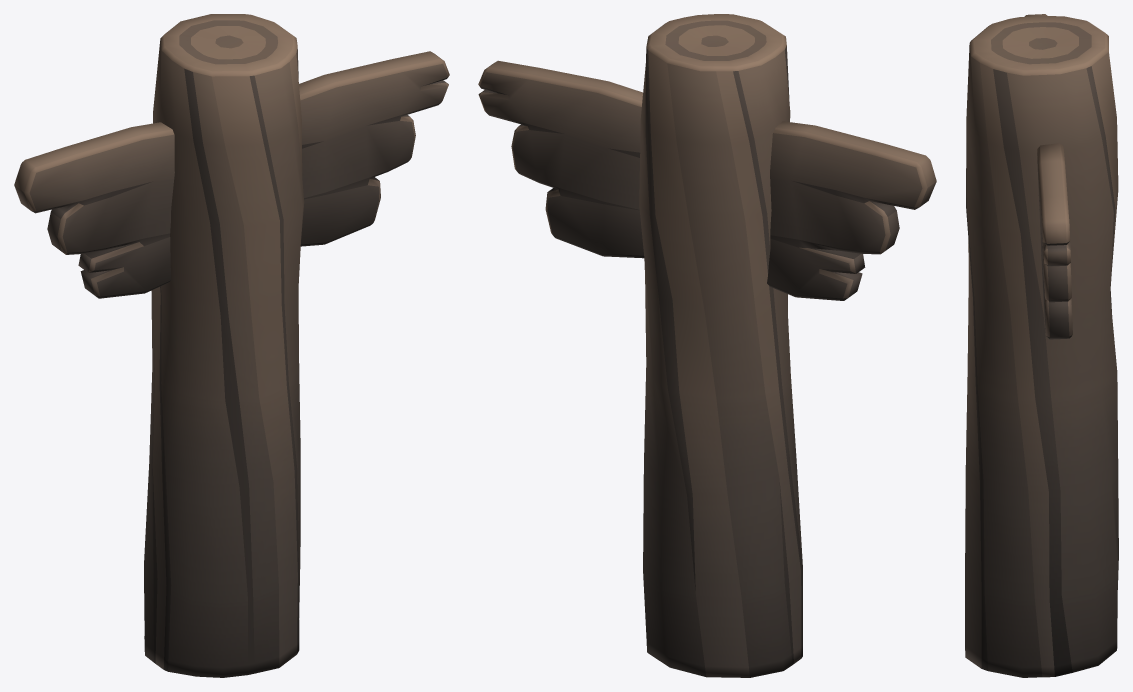
Rendered from elf_totem_pole_3.fbx.
The picture shows the model from 3 angles, left to right: view 1: azimuth 30°, elevation 25°; view 2: azimuth 150°, elevation 25°; view 3: azimuth 270°, elevation 25°; orthographic projection.
Parts seen in each view (by area): view 1: elf_totem_pole_3; view 2: elf_totem_pole_3; view 3: elf_totem_pole_3.
Boxes of the visible parts, box(x1,y1,x2,y2) form: elf_totem_pole_3: box(14, 14, 449, 677); elf_totem_pole_3: box(478, 14, 936, 677); elf_totem_pole_3: box(965, 14, 1118, 677).
Size of the model in its own units: 426 by 564 by 129.
